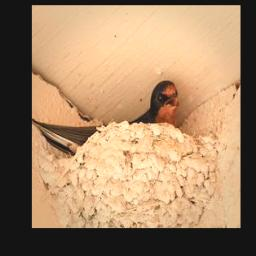Swallow: (32, 77, 180, 164)
